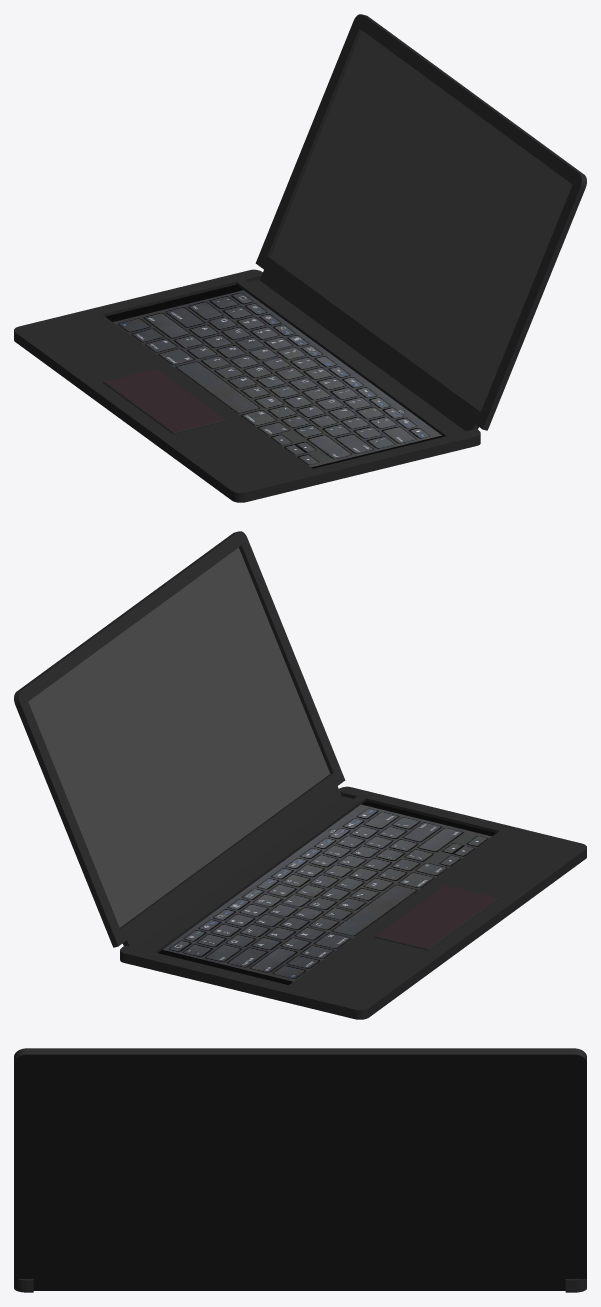
File: laptop.glb
The picture shows the model from 3 angles, top to bottom: view 1: azimuth 30°, elevation 25°; view 2: azimuth 150°, elevation 25°; view 3: azimuth 270°, elevation 25°; orthographic projection. The views are drawn at different scales.
Visible parts, largest first — view 1: Cube; view 2: Cube; view 3: Cube.
Part boxes in pixels (bbox=[...]): Cube: bbox=[14, 14, 586, 502]; Cube: bbox=[14, 531, 586, 1019]; Cube: bbox=[14, 1048, 586, 1292].
Bounding box in the file's own units: 0.197 × 0.1295 × 0.2198.
6 materials, 1 textured.
